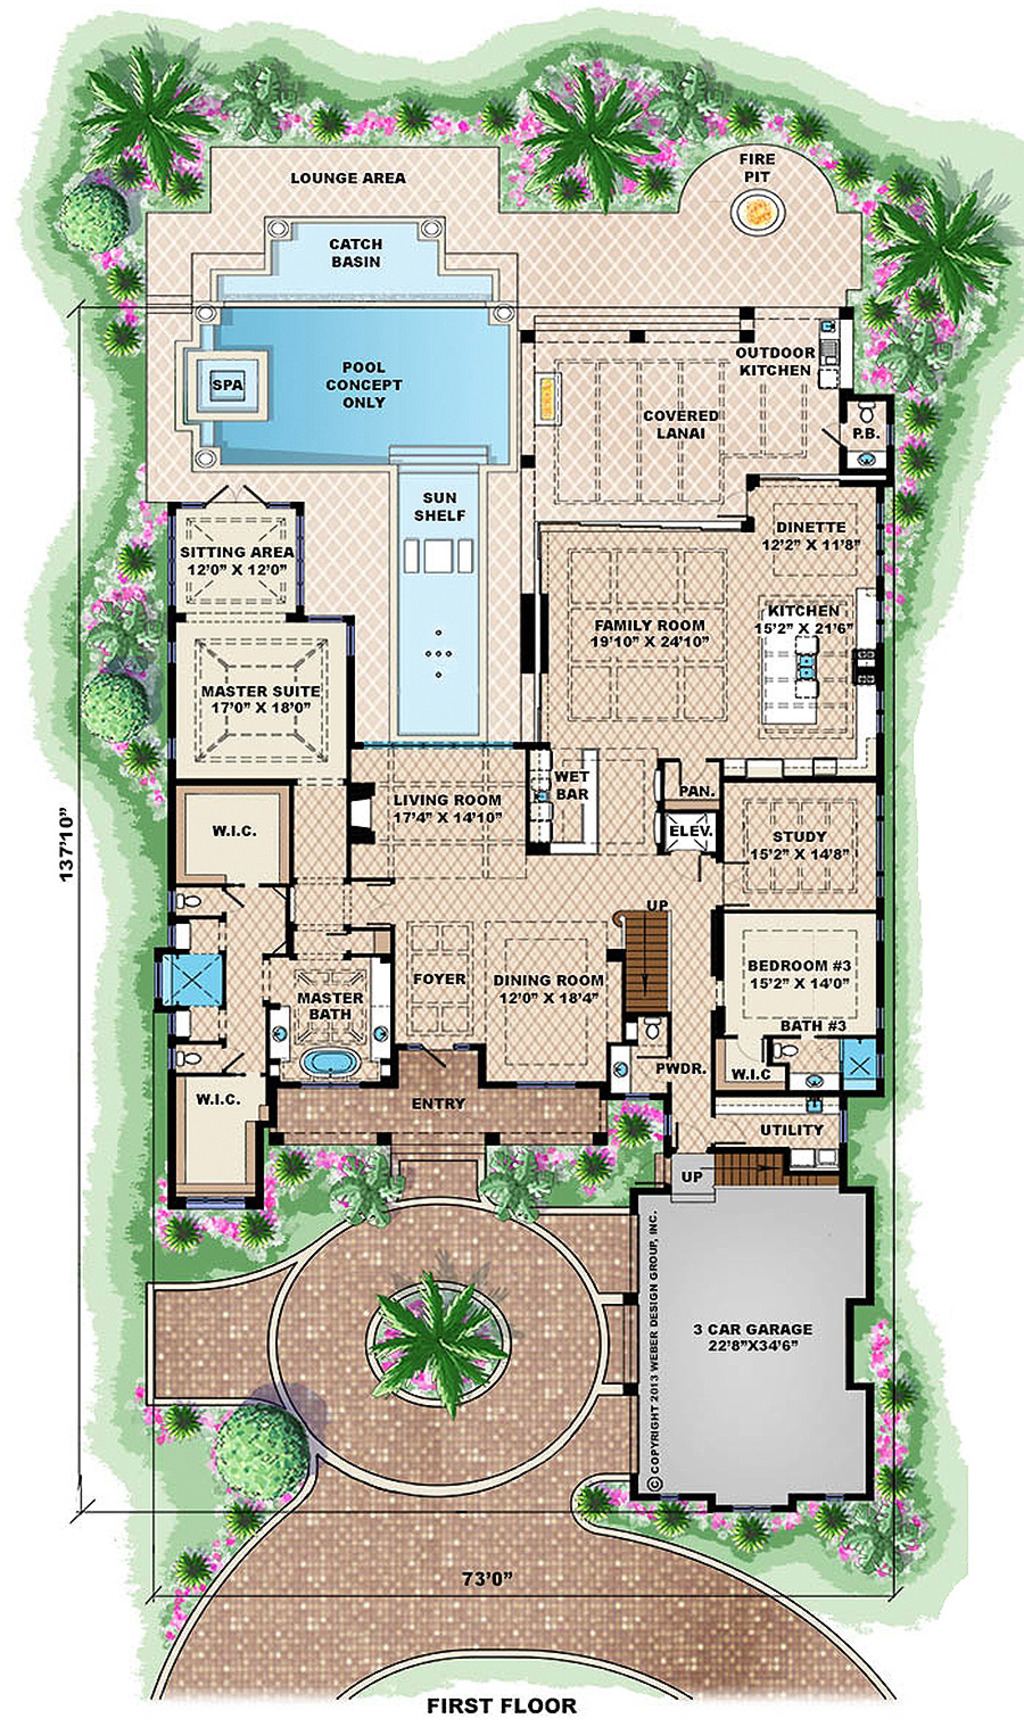stairs: (703, 1140, 859, 1196), (614, 896, 677, 1023)
tub: (294, 1034, 366, 1087)
